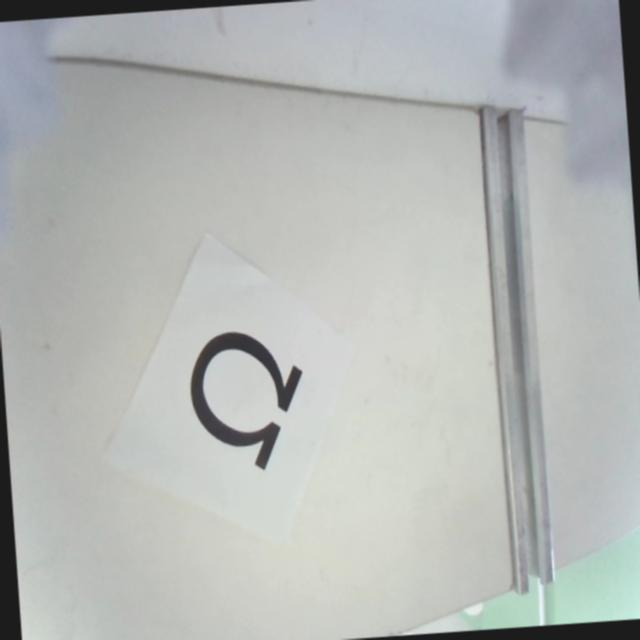OM: (186, 326, 308, 470)
